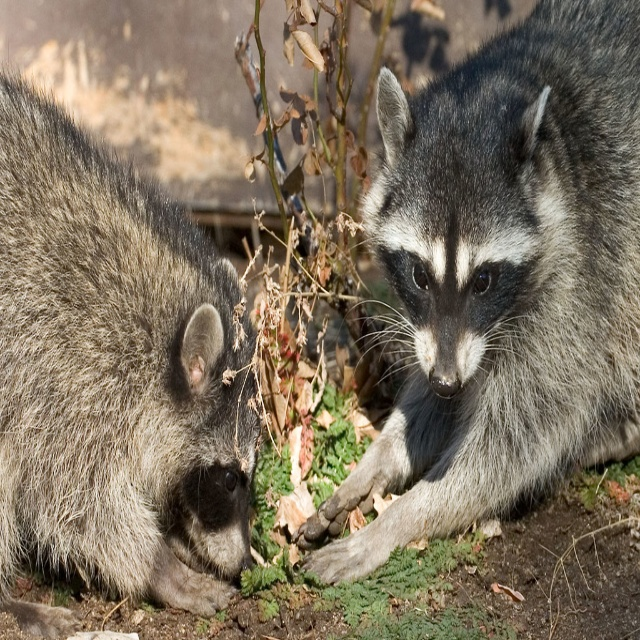Raccoon: (291, 0, 640, 587), (0, 41, 263, 640)
